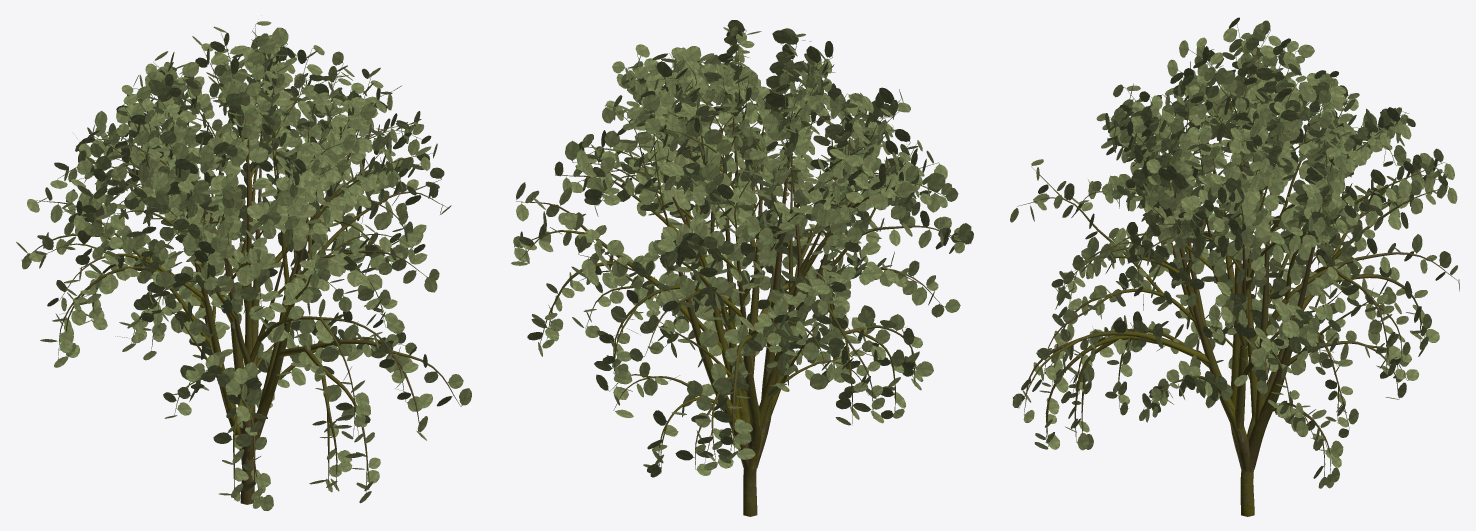
File: Amazonie_Arbre_8.fbx
3 renders of one model, left to right at view 1: azimuth 30°, elevation 25°; view 2: azimuth 150°, elevation 25°; view 3: azimuth 270°, elevation 25°, orthographic. The views are drawn at different scales.
Parts seen in each view (by area): view 1: Plane.001, tree; view 2: Plane.001, tree; view 3: Plane.001, tree.
Boxes of the visible parts, bbox=[...] form: Plane.001: bbox=[16, 21, 471, 510]; tree: bbox=[22, 24, 460, 504]; Plane.001: bbox=[511, 20, 973, 477]; tree: bbox=[514, 31, 970, 516]; Plane.001: bbox=[1010, 17, 1459, 488]; tree: bbox=[1017, 24, 1458, 516].
Size of the model in its own units: 524 by 563 by 493.
